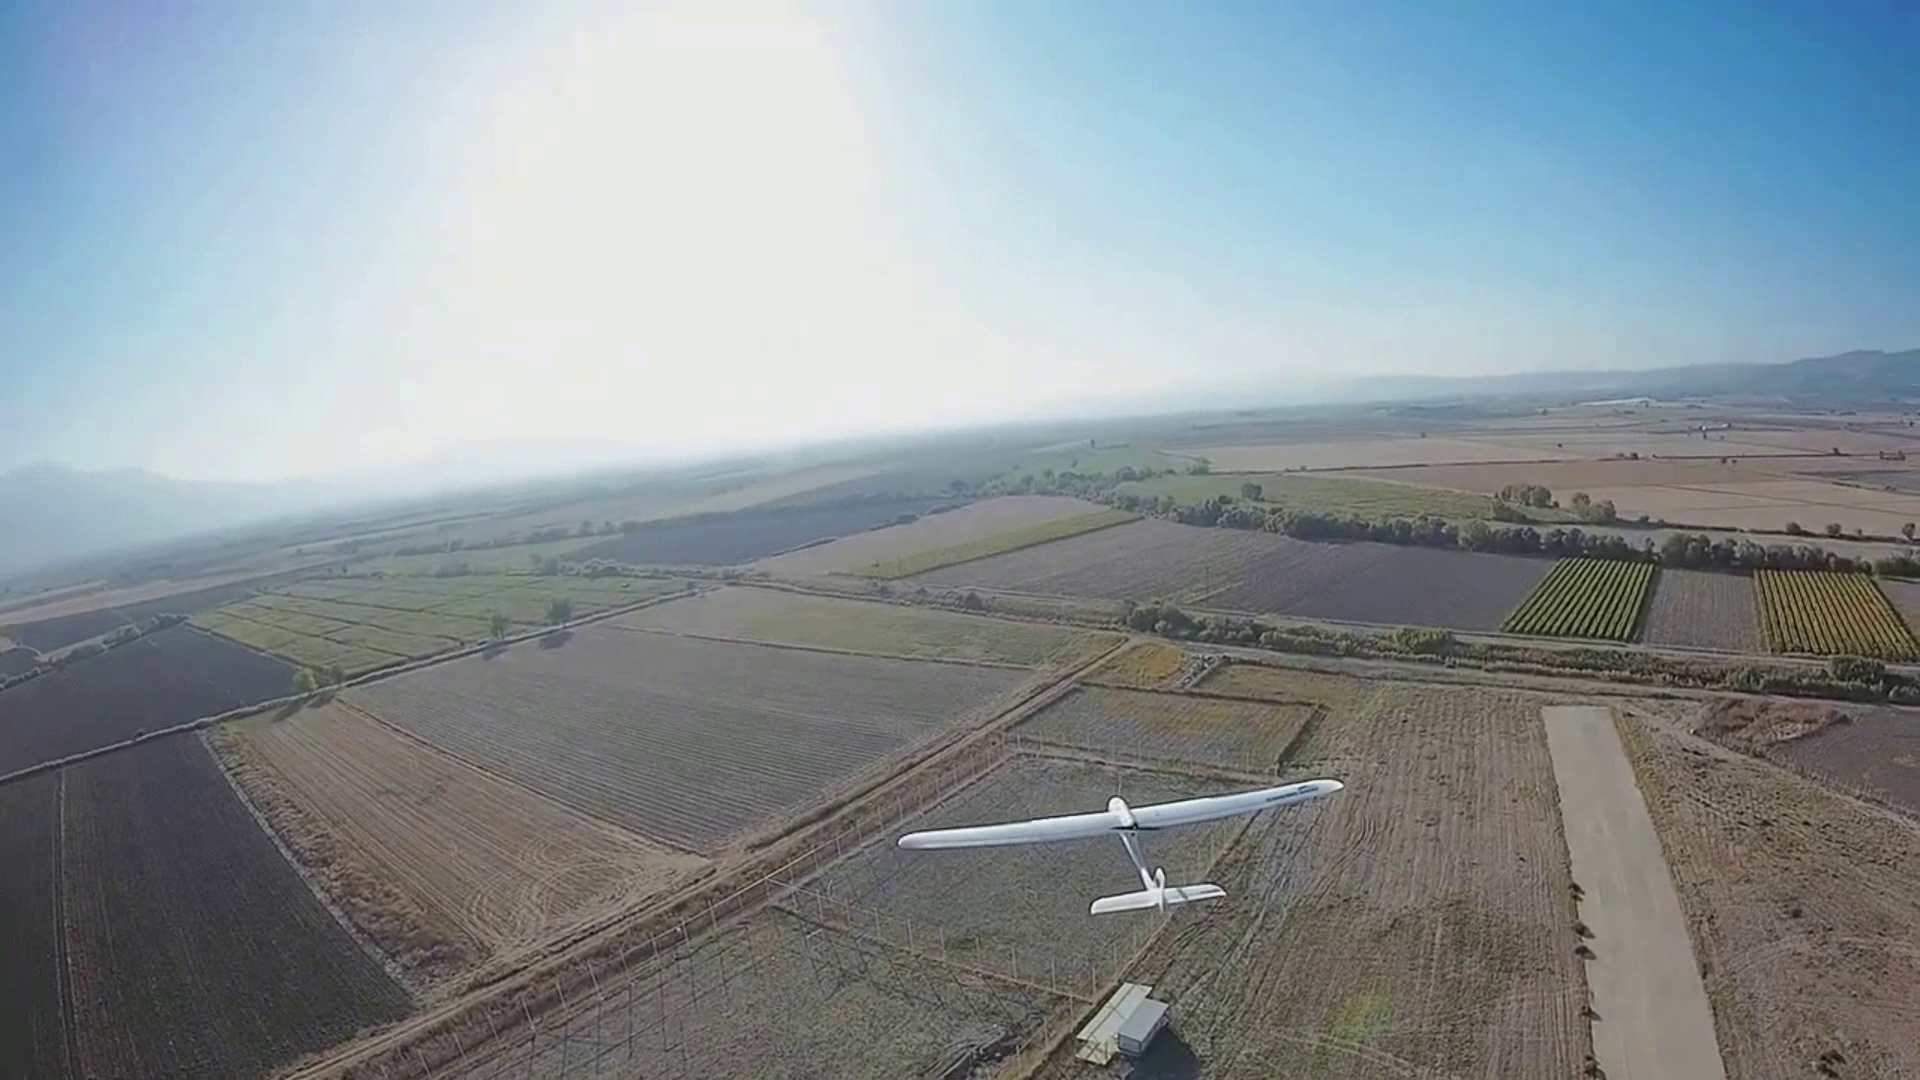airplane: (895, 767, 1344, 920)
